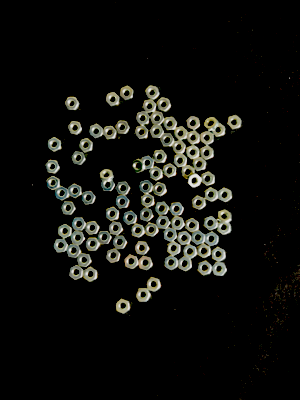nut: (146, 277, 162, 293), (116, 298, 131, 315), (69, 265, 84, 281), (83, 267, 98, 283), (212, 262, 228, 277), (197, 261, 213, 276), (178, 256, 193, 272), (70, 231, 86, 246), (130, 224, 146, 239), (203, 216, 219, 231), (61, 201, 77, 216), (191, 196, 207, 211), (204, 187, 219, 203), (47, 137, 62, 153), (115, 120, 131, 135), (77, 253, 92, 268), (106, 249, 121, 264), (124, 255, 139, 270), (164, 256, 179, 271), (67, 244, 82, 259), (211, 247, 226, 262), (85, 221, 100, 236), (177, 231, 192, 246), (170, 216, 185, 231), (185, 218, 200, 233), (123, 211, 138, 226), (105, 207, 120, 222), (115, 195, 130, 210), (46, 176, 61, 191), (139, 180, 154, 195), (181, 165, 196, 180), (192, 157, 207, 172), (173, 153, 188, 168), (105, 92, 120, 107), (134, 125, 149, 140), (200, 146, 215, 161), (227, 115, 242, 130), (211, 123, 226, 138), (204, 117, 219, 132), (186, 116, 201, 131), (157, 97, 172, 112), (145, 85, 160, 100), (134, 241, 150, 255), (53, 239, 69, 253), (112, 236, 128, 250), (85, 238, 101, 252), (71, 217, 87, 231), (108, 222, 124, 236), (192, 230, 206, 246), (169, 202, 185, 216), (68, 183, 82, 199), (55, 186, 69, 202), (45, 160, 61, 174), (202, 171, 216, 187), (163, 163, 177, 179), (152, 150, 168, 164), (71, 151, 87, 165), (136, 289, 151, 303), (139, 256, 153, 271), (167, 242, 181, 257), (183, 245, 198, 259), (197, 244, 211, 259), (97, 231, 112, 245), (58, 224, 72, 239), (144, 223, 159, 237), (163, 228, 178, 242), (205, 232, 219, 247), (156, 216, 171, 230), (217, 210, 232, 224), (139, 208, 154, 222), (155, 202, 170, 216), (99, 169, 114, 183), (81, 191, 96, 205), (141, 193, 155, 208), (153, 182, 167, 197), (219, 188, 233, 203), (187, 174, 202, 188), (149, 167, 164, 181), (132, 159, 146, 174), (79, 138, 93, 153), (68, 121, 83, 135), (65, 97, 80, 111), (89, 124, 103, 139), (103, 126, 117, 141), (120, 86, 134, 101), (186, 145, 200, 160), (150, 125, 165, 139), (200, 131, 215, 145), (187, 130, 201, 145), (174, 126, 189, 140), (163, 117, 178, 131), (150, 112, 165, 126), (142, 100, 157, 114), (115, 182, 131, 195), (171, 141, 187, 154), (136, 111, 150, 125), (217, 223, 232, 236), (160, 134, 175, 147), (142, 156, 155, 170), (100, 181, 116, 192)
